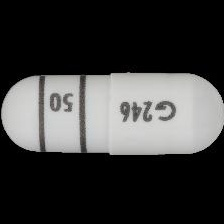61269-210: (0, 0, 224, 224)
